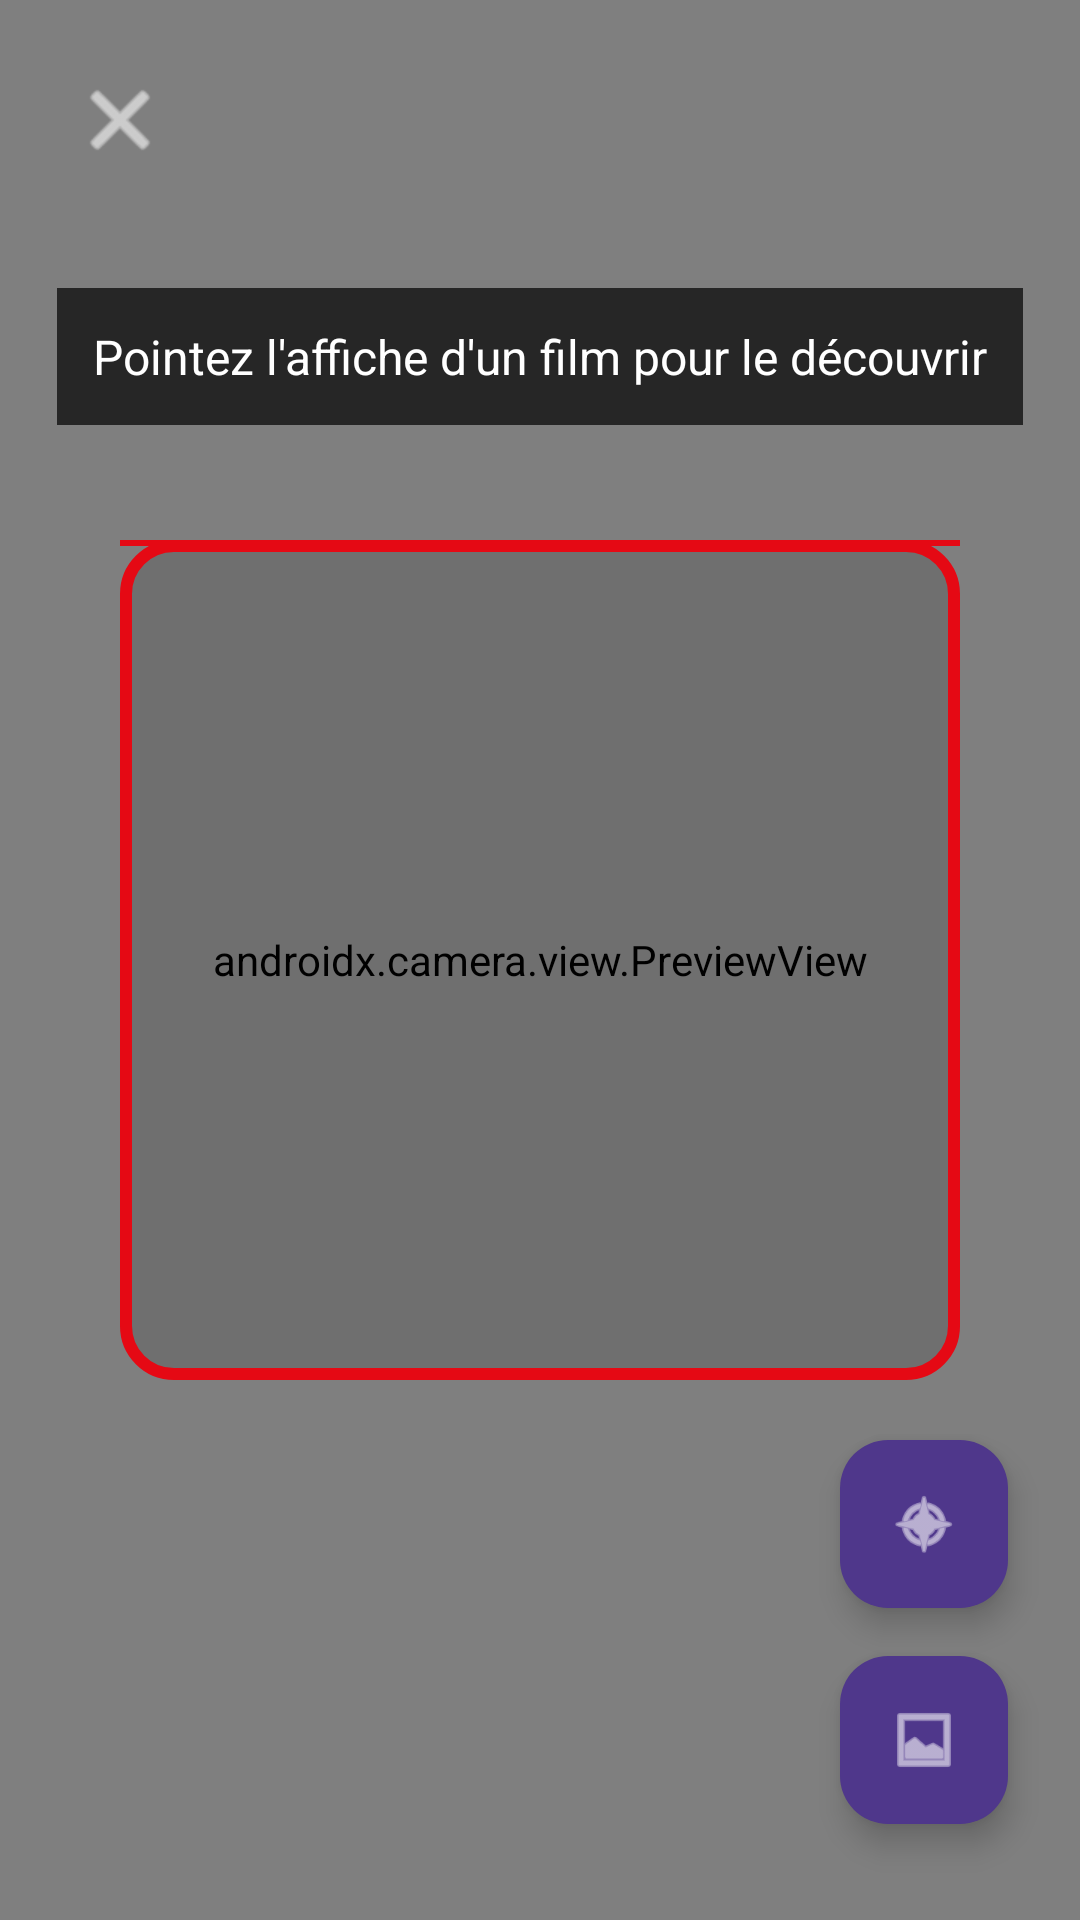

Named icons in this screenshot (1080*1920) and their centers, point (x, y):
close clear cancel: point (120, 120)
gallery: point (924, 1740)
